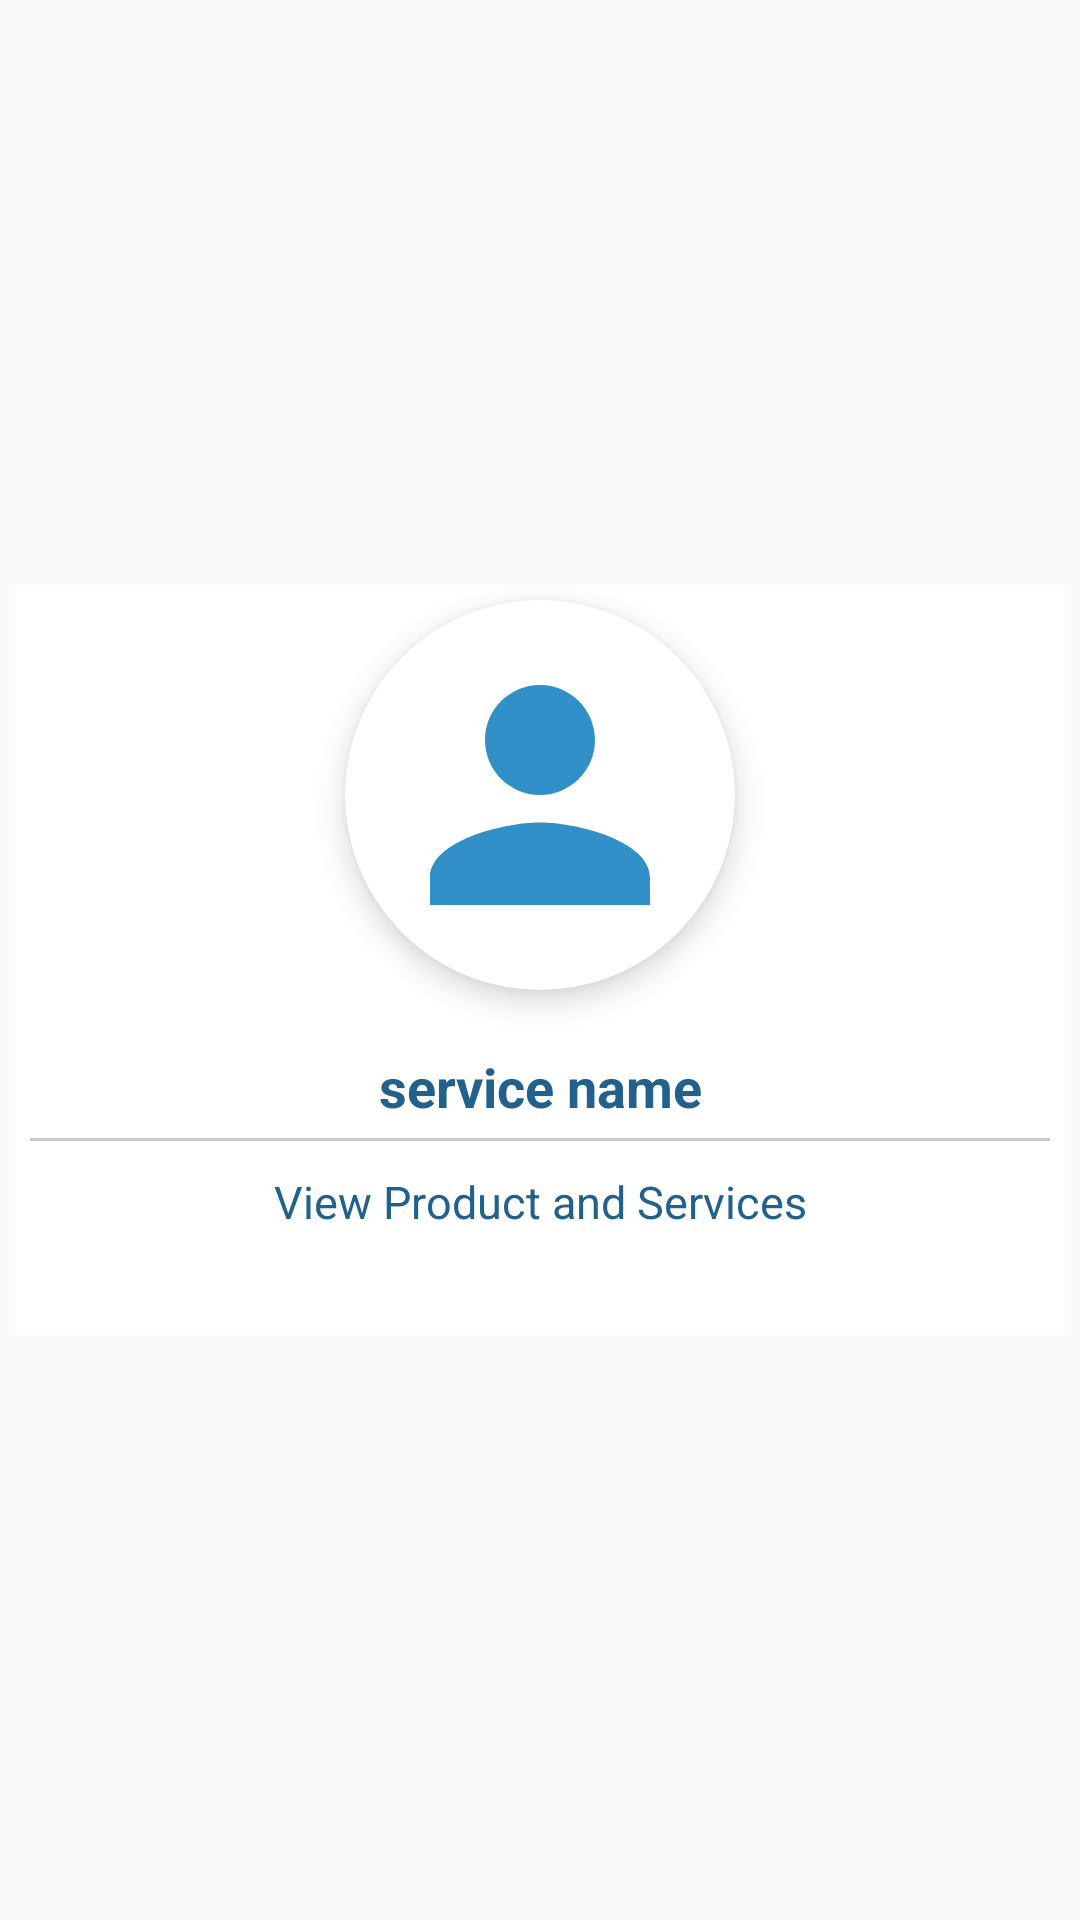

Locate icon controls on the screen. Image size 1080 × 1920, boxes as detection(x1, y1, x2, y2).
person: detection(430, 685, 650, 905)
